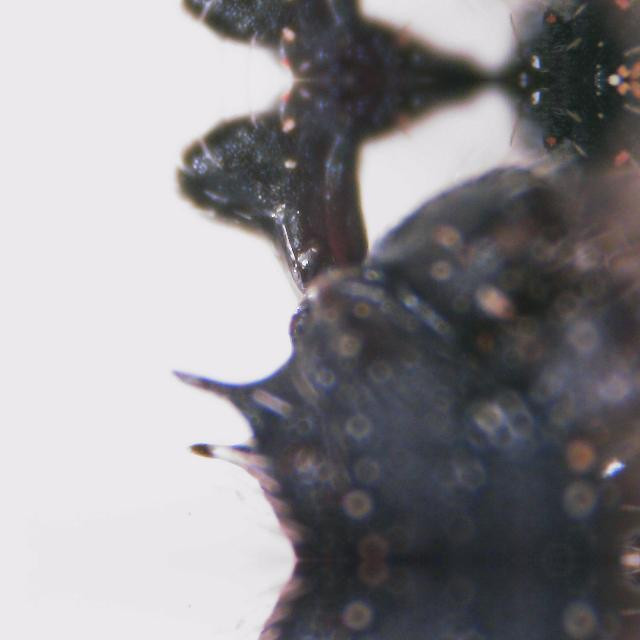Apheanogaster: (105, 80, 639, 550)
